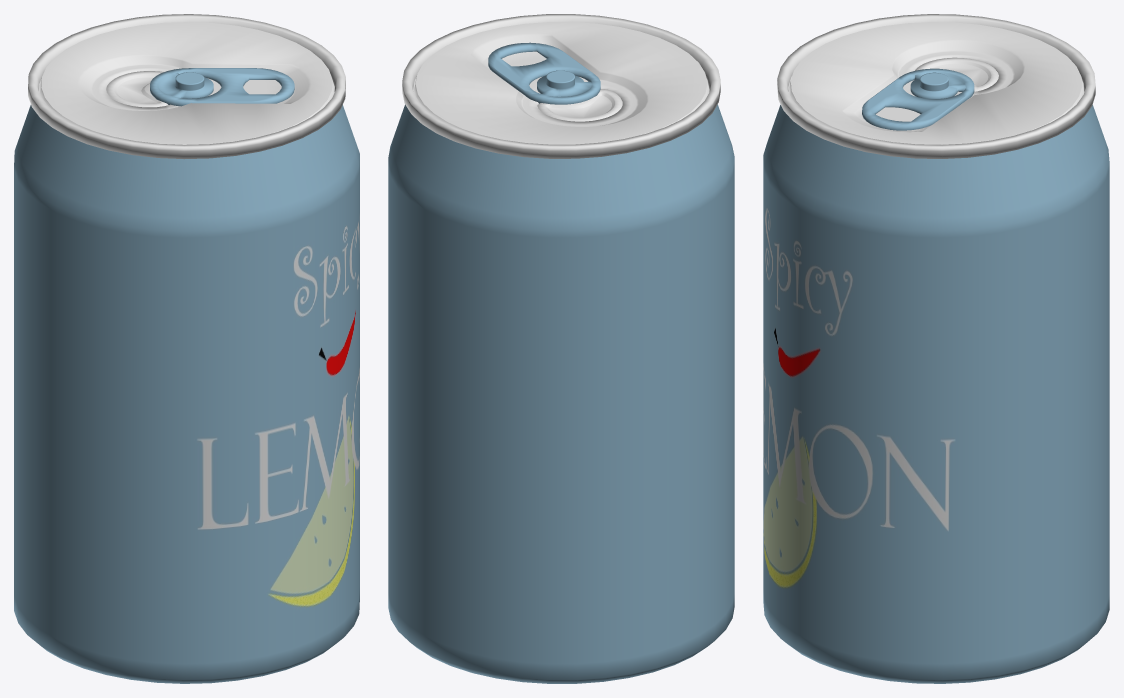
Rendered from Can.glb.
The picture shows the model from 3 angles, left to right: view 1: azimuth 30°, elevation 25°; view 2: azimuth 150°, elevation 25°; view 3: azimuth 270°, elevation 25°; orthographic projection.
Parts seen in each view (by area): view 1: Can, Tab; view 2: Can, Tab; view 3: Can, Tab.
Boxes of the visible parts, x1,y1,x2,y2 form: Can: (14, 14, 359, 683); Tab: (150, 68, 294, 106); Can: (388, 14, 734, 683); Tab: (488, 42, 600, 104); Can: (763, 14, 1109, 683); Tab: (862, 68, 974, 130).
Bounding box in the file's own units: 5.97 × 10.46 × 5.97.
2 materials, 1 textured.
